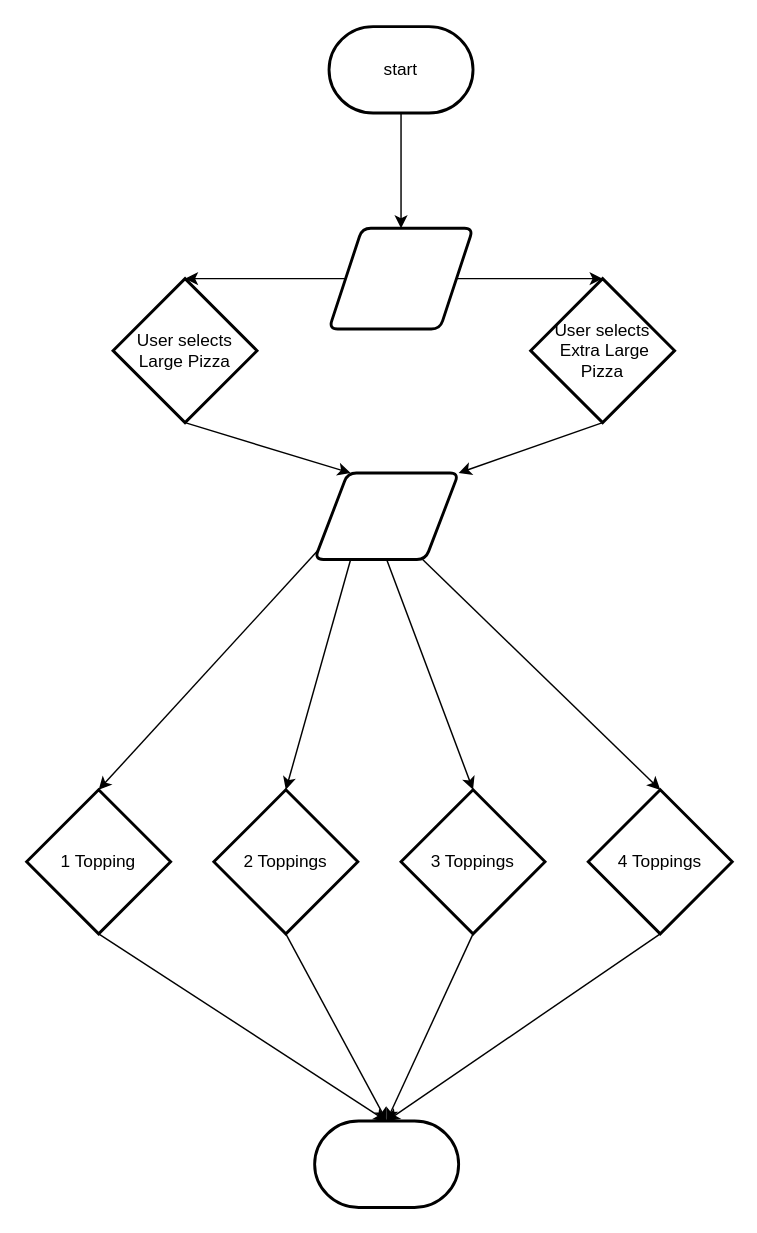
The diagram is 757 pixels wide and 1233 high, and some of its shapes have lost their labels. The centre of each missing label's shape, as x and y in pixels:
"Ask user to input order" goes at (400,278).
"end" goes at (385,1163).
"Select # of toppings" goes at (385,515).
